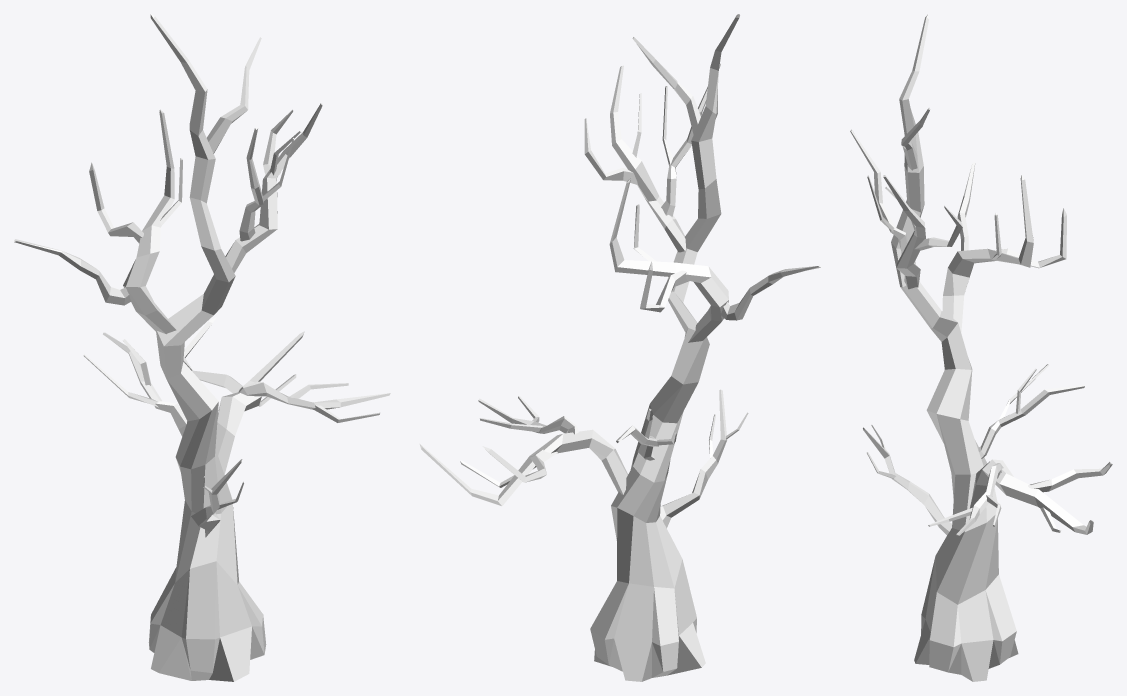
File: deadTreeBlack.fbx
The picture shows the model from 3 angles, left to right: view 1: azimuth 30°, elevation 25°; view 2: azimuth 150°, elevation 25°; view 3: azimuth 270°, elevation 25°; orthographic projection. The views are drawn at different scales.
Visible parts, largest first — view 1: _DeadTree.001; view 2: _DeadTree.001; view 3: _DeadTree.001.
Part boxes in pixels (x1,y1,x2,y2): _DeadTree.001: (14,14,390,681); _DeadTree.001: (419,14,821,681); _DeadTree.001: (850,14,1112,681).
Bounding box in the file's own units: 848 × 1521 × 583.
